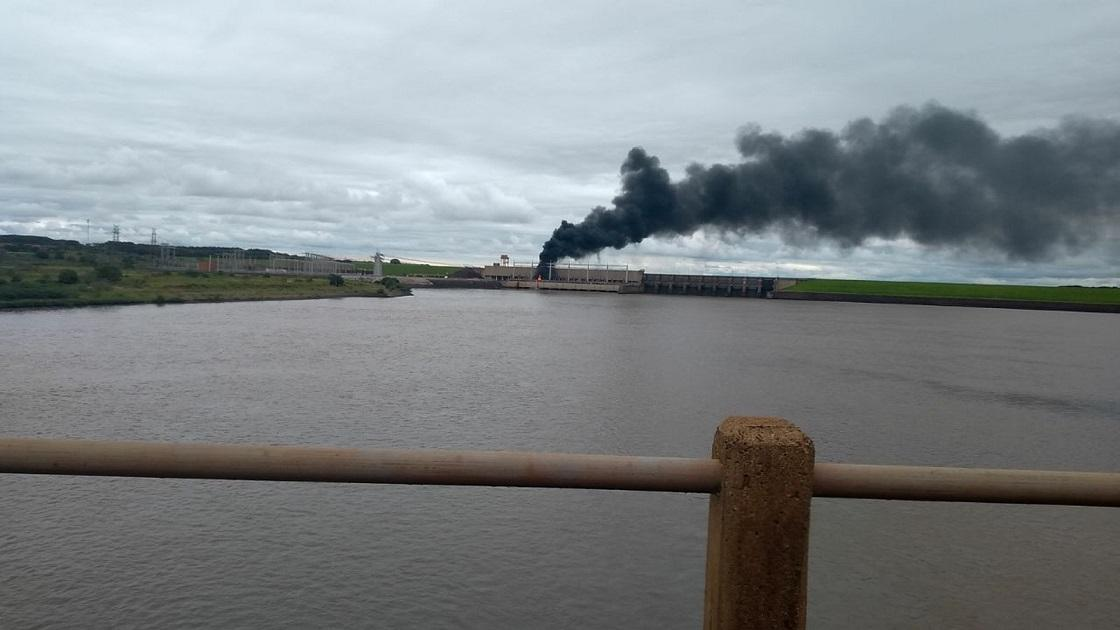smoke: (702, 147, 1120, 220), (627, 175, 683, 227)
